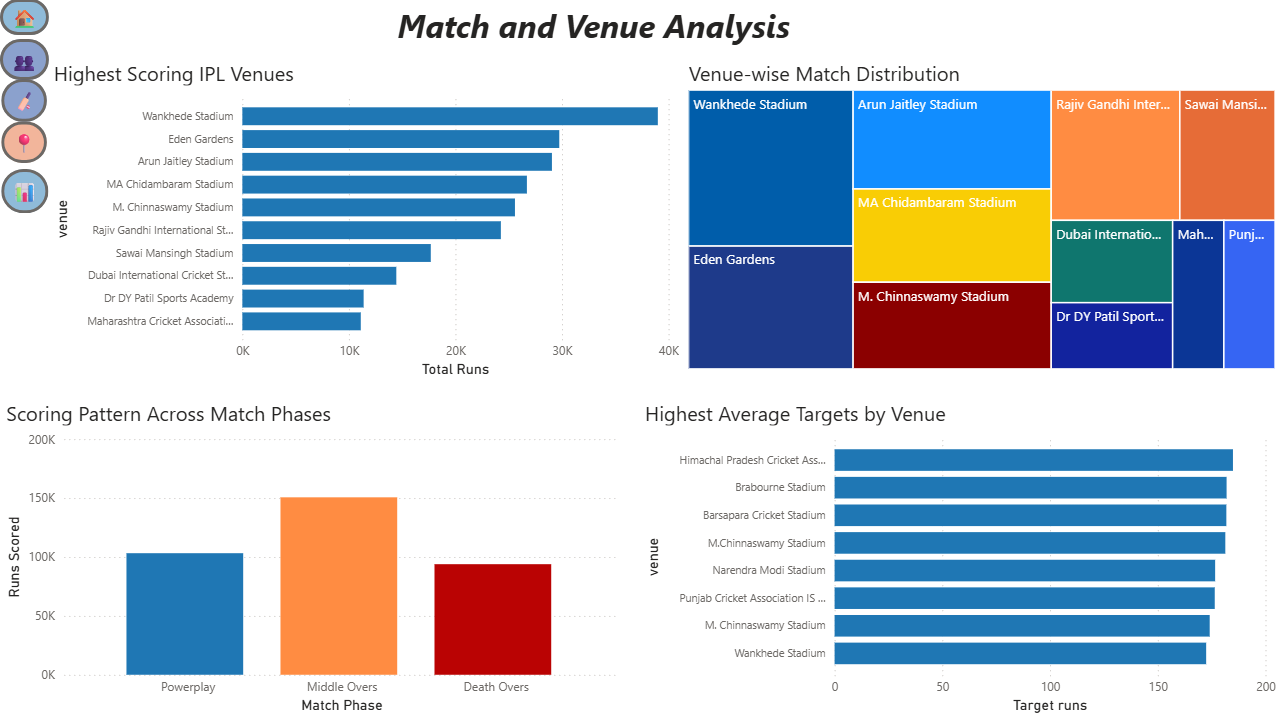

What the dashboard file says about the page in this screenshot:
{"tool":"powerbi","page":{"name":"Match and venue analysis 📍","canvas":[1280,720],"ordinal":3},"visuals":[{"type":"barChart","title":"Highest Scoring IPL Venues","fields":{"Category":["Merged Dataset.venue"],"Y":["Sum(Mixed dataset.deliveries.total_runs)"]},"box":[48.8,60,635,323.8],"z":0},{"type":"columnChart","title":"Scoring Pattern Across Match Phases","fields":{"Category":["Mixed dataset.deliveries.Phase"],"Y":["Sum(Mixed dataset.deliveries.total_runs)"]},"box":[1.2,400,623.3,319.8],"z":1000},{"type":"treemap","title":"Venue-wise Match Distribution","fields":{"Details":["Mixed dataset.venue"],"Values":["Count(Mixed dataset.Match_id)"]},"box":[683.7,60.5,596.5,315.1],"z":2000},{"type":"barChart","title":"Highest Average Targets by Venue","fields":{"Category":["Mixed dataset.venue"],"Y":["Avg(Mixed dataset.target_runs)"]},"box":[639.5,400,640.7,319.8],"z":3000},{"type":"textbox","box":[392.5,0,436.4,60.4],"z":4000},{"type":"actionButton","title":"Home","box":[0,0,49,36],"z":5000,"group":"g1"},{"type":"actionButton","title":"Home","box":[0.8,170,47.1,44.3],"z":6000,"group":"g1"},{"type":"group","id":"g1","title":"Group 1","box":[0,0,49,214.3],"z":7000},{"type":"actionButton","title":"Home","box":[1.5,122.9,45.7,41.4],"z":7000,"group":"g1"},{"type":"actionButton","title":"Home","box":[1.5,80,45.7,42.9],"z":8000,"group":"g1"},{"type":"actionButton","title":"Home","box":[0,40.5,49,41],"z":10000,"group":"g1"}]}

Visuals, with their boxes in screenshot pixels (x1, y1, x2, y2), scaled from the page's 1280x720 canvas onto the 1280x719 screenshot:
"Highest Scoring IPL Venues" barChart: select_region(49, 60, 684, 383)
"Scoring Pattern Across Match Phases" columnChart: select_region(1, 399, 624, 718)
"Venue-wise Match Distribution" treemap: select_region(684, 60, 1279, 375)
"Highest Average Targets by Venue" barChart: select_region(640, 399, 1279, 718)
textbox: select_region(392, 0, 829, 60)
"Home" actionButton: select_region(0, 0, 49, 36)
"Home" actionButton: select_region(1, 170, 48, 214)
"Group 1" group: select_region(0, 0, 49, 214)
"Home" actionButton: select_region(2, 123, 47, 164)
"Home" actionButton: select_region(2, 80, 47, 123)
"Home" actionButton: select_region(0, 40, 49, 81)
